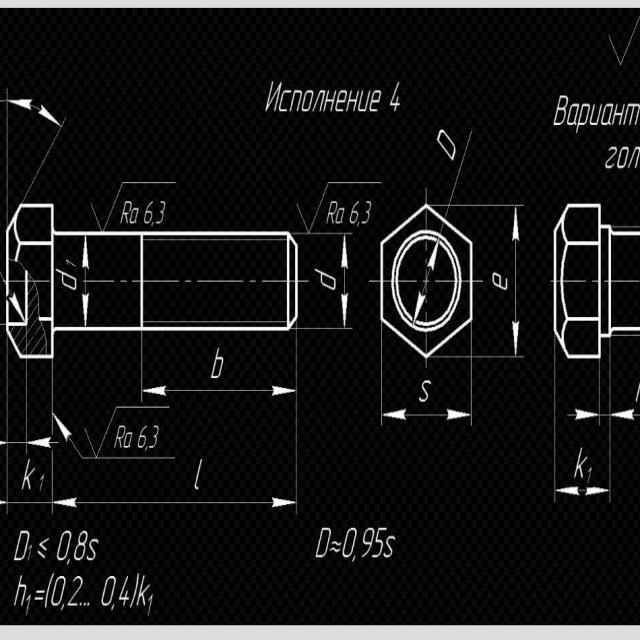marking_line: (52, 403, 192, 466), (2, 88, 72, 204), (53, 491, 296, 513), (408, 244, 445, 318), (512, 208, 530, 359), (143, 381, 296, 396), (383, 409, 471, 425), (79, 238, 94, 326), (338, 235, 352, 329), (563, 400, 598, 425), (559, 484, 610, 500), (7, 296, 26, 324), (612, 406, 640, 424)
numeric: (341, 524, 384, 565), (52, 529, 91, 565), (349, 195, 375, 228), (137, 423, 163, 453), (144, 200, 170, 228), (96, 570, 113, 611), (389, 74, 405, 117), (115, 571, 131, 610), (53, 573, 69, 610), (66, 572, 82, 607)
special_symbol: (87, 179, 124, 230)
